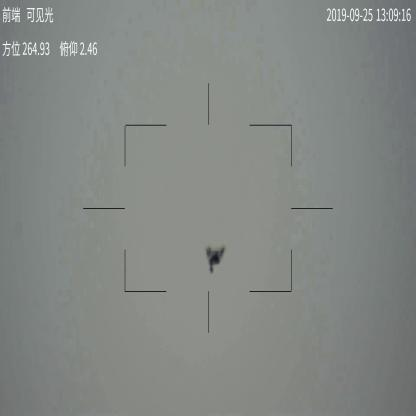uav: (202, 243, 226, 273)
